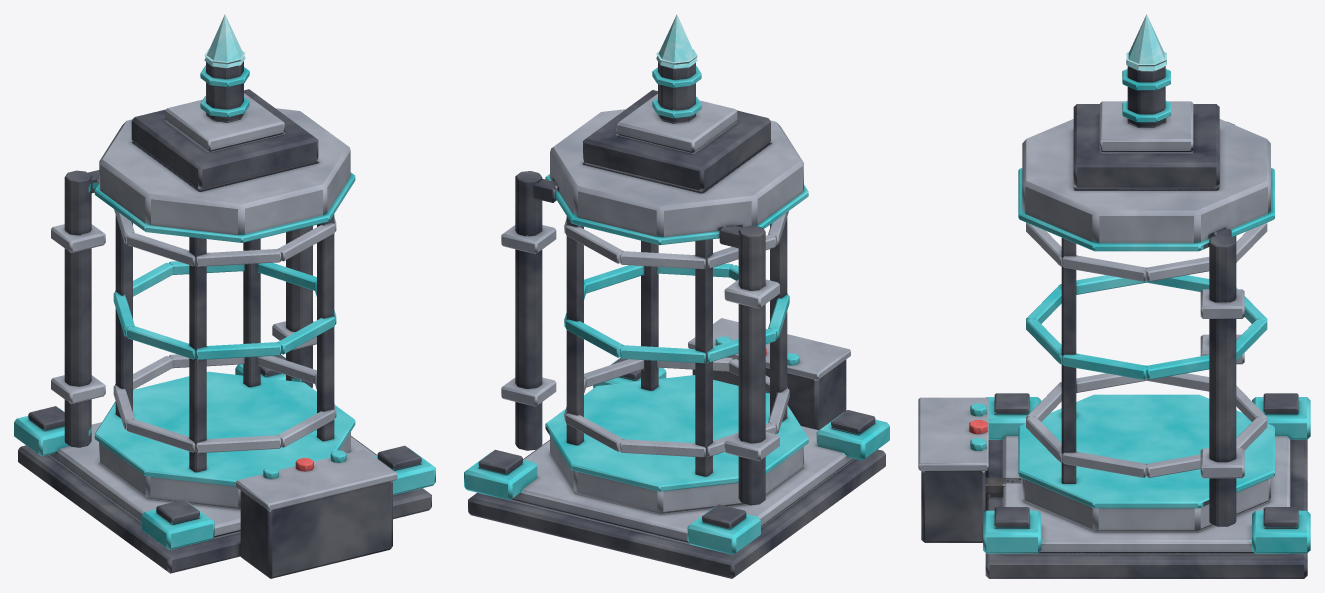
File: EvolutionCapsule_Rig.fbx
3 views of the same model, side by side, from view 1: azimuth 30°, elevation 25°; view 2: azimuth 150°, elevation 25°; view 3: azimuth 270°, elevation 25° (orthographic). The views are drawn at different scales.
Visible parts, largest first — view 1: Frame, Base, Top, Console; view 2: Base, Frame, Top, Console; view 3: Base, Top, Frame, Console.
Part boxes in pixels (x1,y1,x2,y2): Frame: (51, 170, 336, 472); Base: (14, 354, 435, 573); Top: (94, 14, 355, 242); Console: (236, 449, 397, 578); Base: (464, 357, 889, 578); Frame: (501, 171, 789, 505); Top: (545, 14, 808, 244); Console: (688, 318, 850, 430); Base: (983, 393, 1310, 578); Top: (1018, 14, 1274, 251); Frame: (1026, 121, 1267, 526); Console: (918, 397, 1006, 542).
Bounding box in the file's own units: 3.57 × 6 × 4.28.
Materials: 1 (1 with a texture image).
